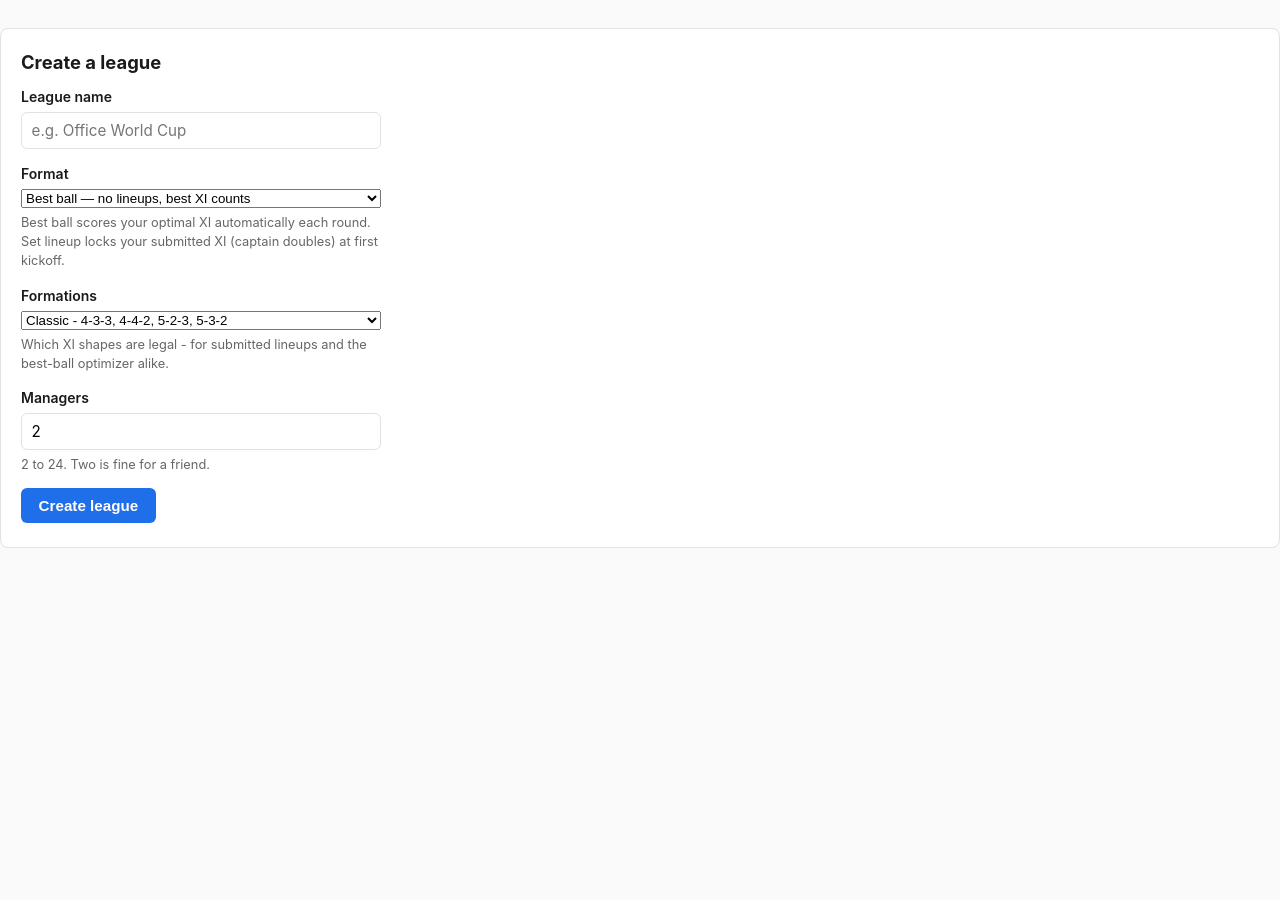
Scenario: CreateLeagueForm › surfaces the server error message and re-enables the button
This screenshot has width=1280, height=900.
In the field labelled "League name": (201, 130) [21, 112, 381, 149], type "Dupe"
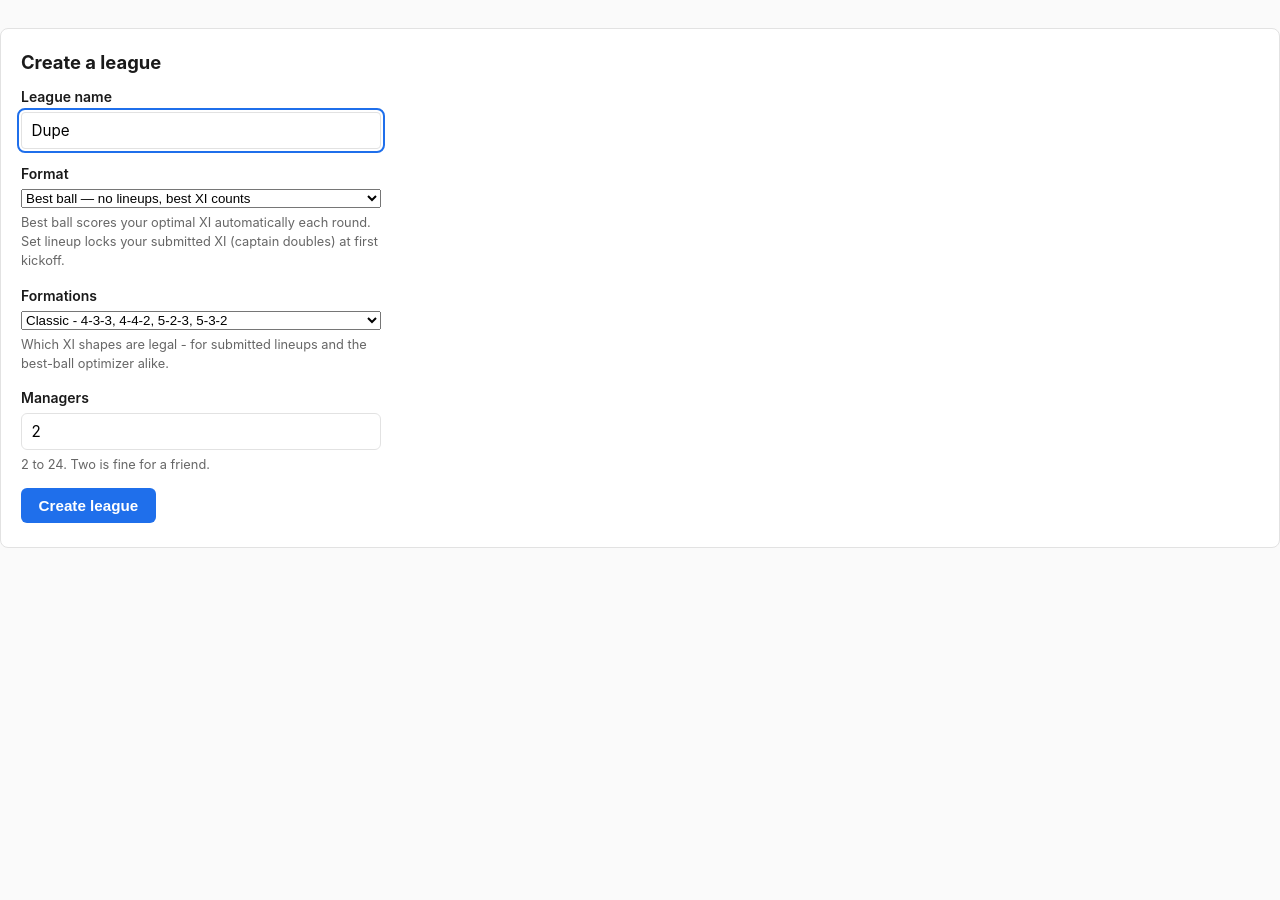
Click the button "Create league": (88, 506) [21, 488, 156, 523]
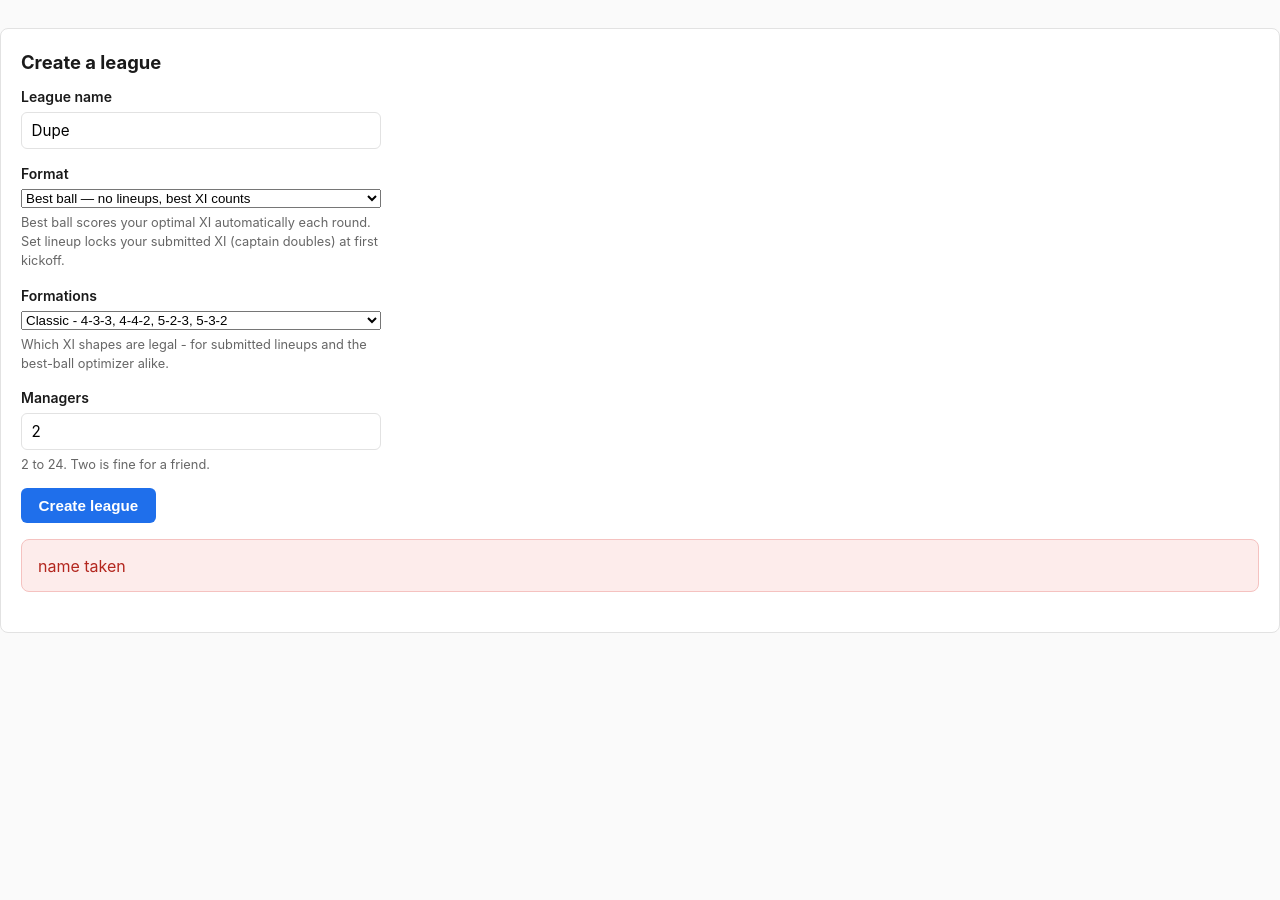
Now the text "name taken" is shown, box [21, 539, 1259, 592]
